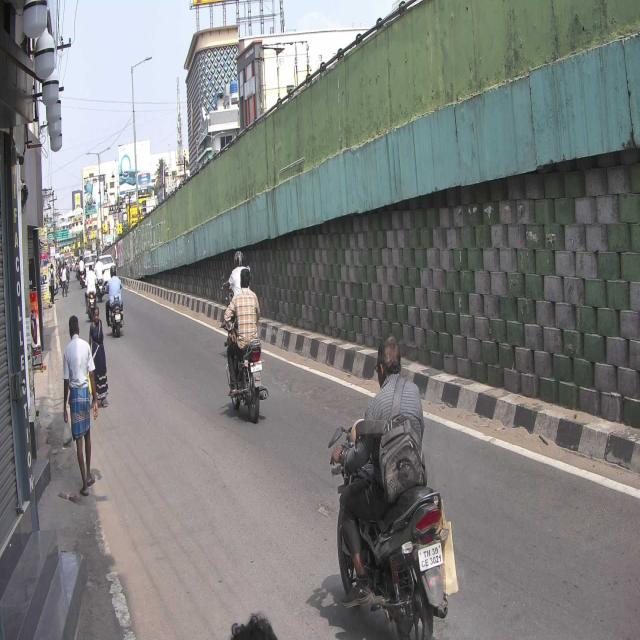single_rider: (328, 330, 451, 640), (219, 264, 271, 428)
